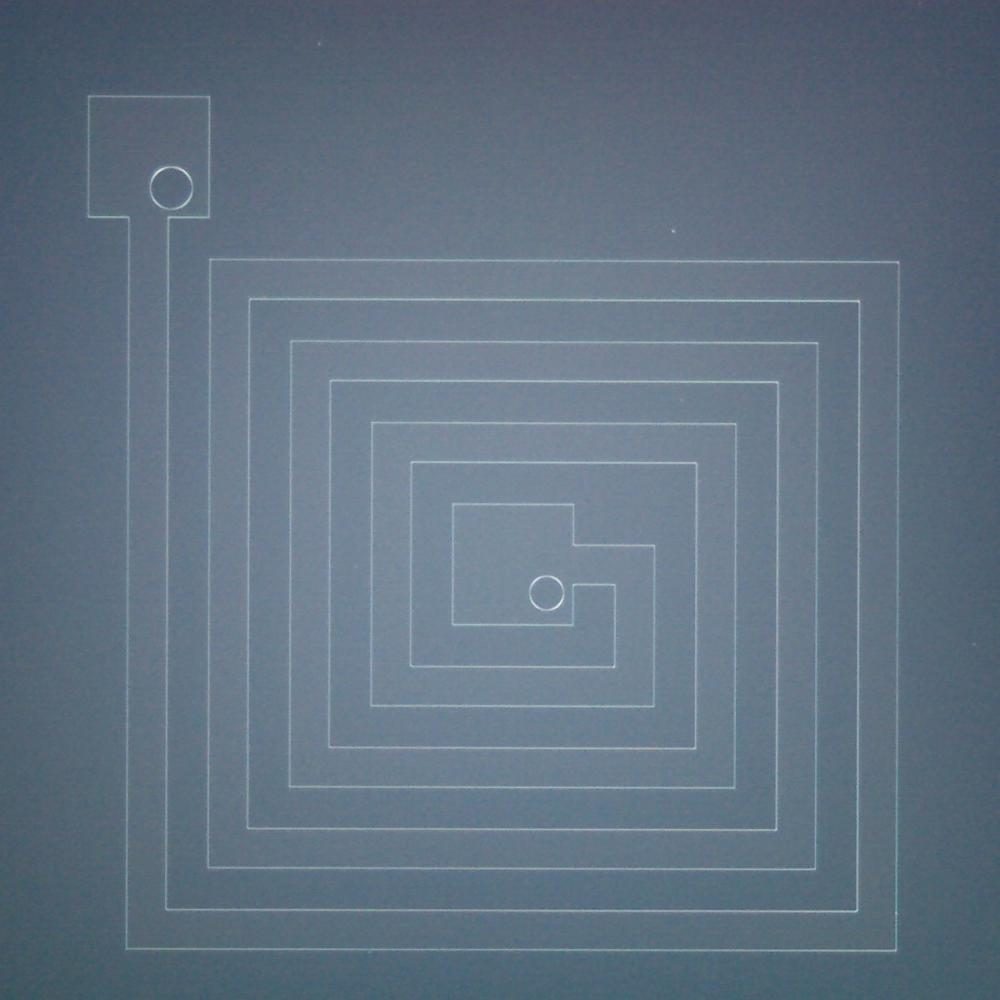dot: (671, 229, 675, 233)
